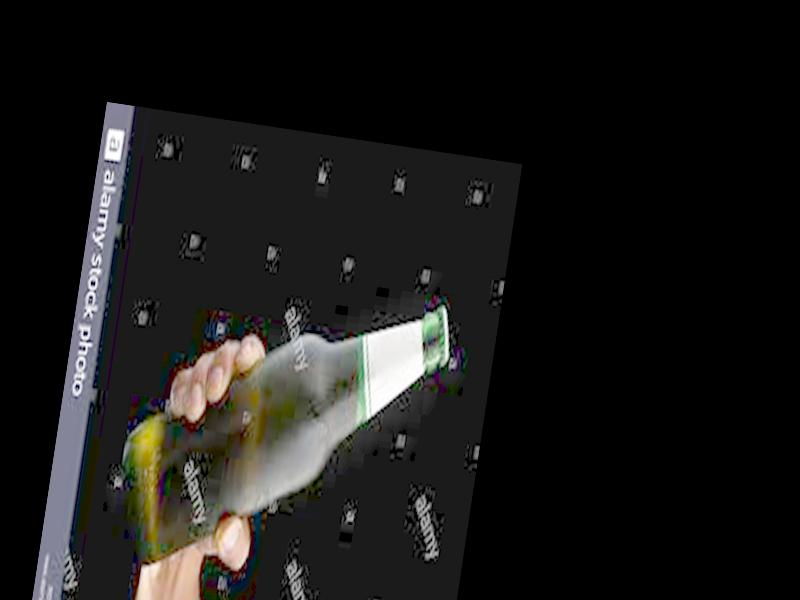Beer: (104, 259, 457, 600)
